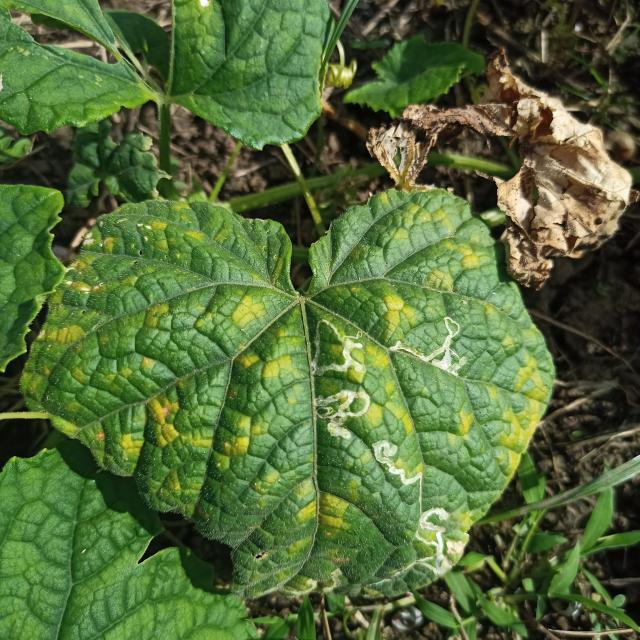disease_cucumber: (58, 206, 542, 585)
